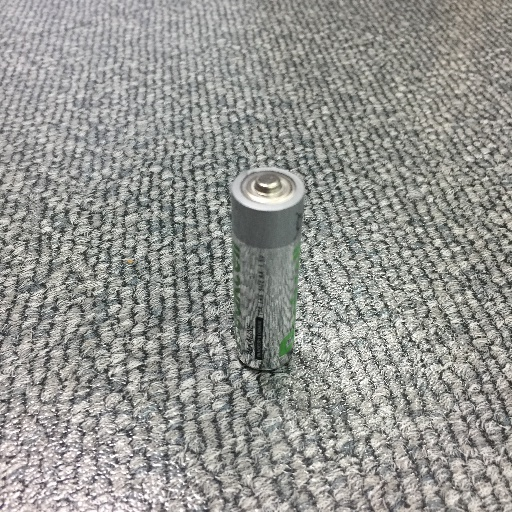Battery_0: (222, 163, 312, 382)
